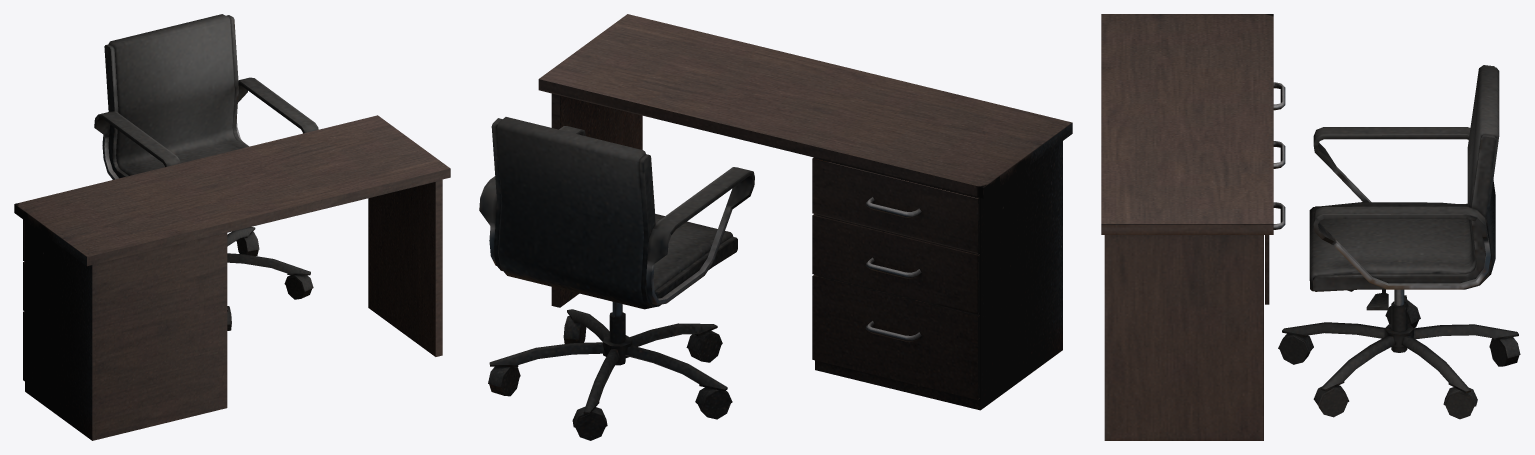
File: Teacher-Desk.fbx
3 views of the same model, side by side, from view 1: azimuth 30°, elevation 25°; view 2: azimuth 150°, elevation 25°; view 3: azimuth 270°, elevation 25° (orthographic). The views are drawn at different scales.
Visible parts, largest first — view 1: Mesa professor_Cortinas/mesa/tubos_0, object 2; view 2: Mesa professor_Cortinas/mesa/tubos_0, object 2; view 3: Mesa professor_Cortinas/mesa/tubos_0, object 2.
Part boxes in pixels (bbox=[...]): Mesa professor_Cortinas/mesa/tubos_0: bbox=[14, 115, 450, 440]; object 2: bbox=[94, 14, 318, 330]; Mesa professor_Cortinas/mesa/tubos_0: bbox=[538, 14, 1072, 410]; object 2: bbox=[479, 117, 754, 440]; Mesa professor_Cortinas/mesa/tubos_0: bbox=[1101, 14, 1285, 440]; object 2: bbox=[1278, 65, 1520, 419].
Size of the model in its own units: 156 by 96.62 by 131.
2 materials, 2 textured.
